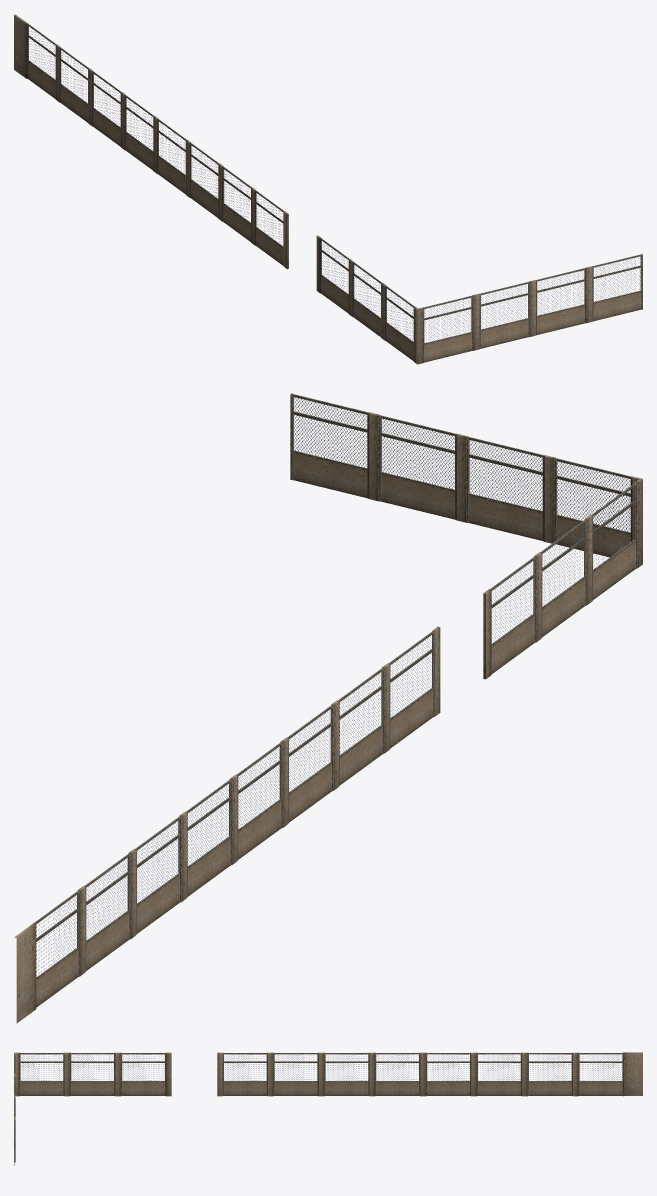
The model's file is M11B_Fence02.glb.
3 views of the same model, one above another, from view 1: azimuth 30°, elevation 25°; view 2: azimuth 150°, elevation 25°; view 3: azimuth 270°, elevation 25° (orthographic). The views are drawn at different scales.
Parts seen in each view (by area): view 1: M11B_FENCE02; view 2: M11B_FENCE02; view 3: M11B_FENCE02.
Part boxes in pixels (bbox=[...]): M11B_FENCE02: bbox=[14, 14, 642, 364]; M11B_FENCE02: bbox=[14, 393, 642, 1023]; M11B_FENCE02: bbox=[14, 1052, 642, 1165].
Bounding box in the file's own units: 8.02 × 1.86 × 24.75.
Materials: 3 (3 with a texture image).
